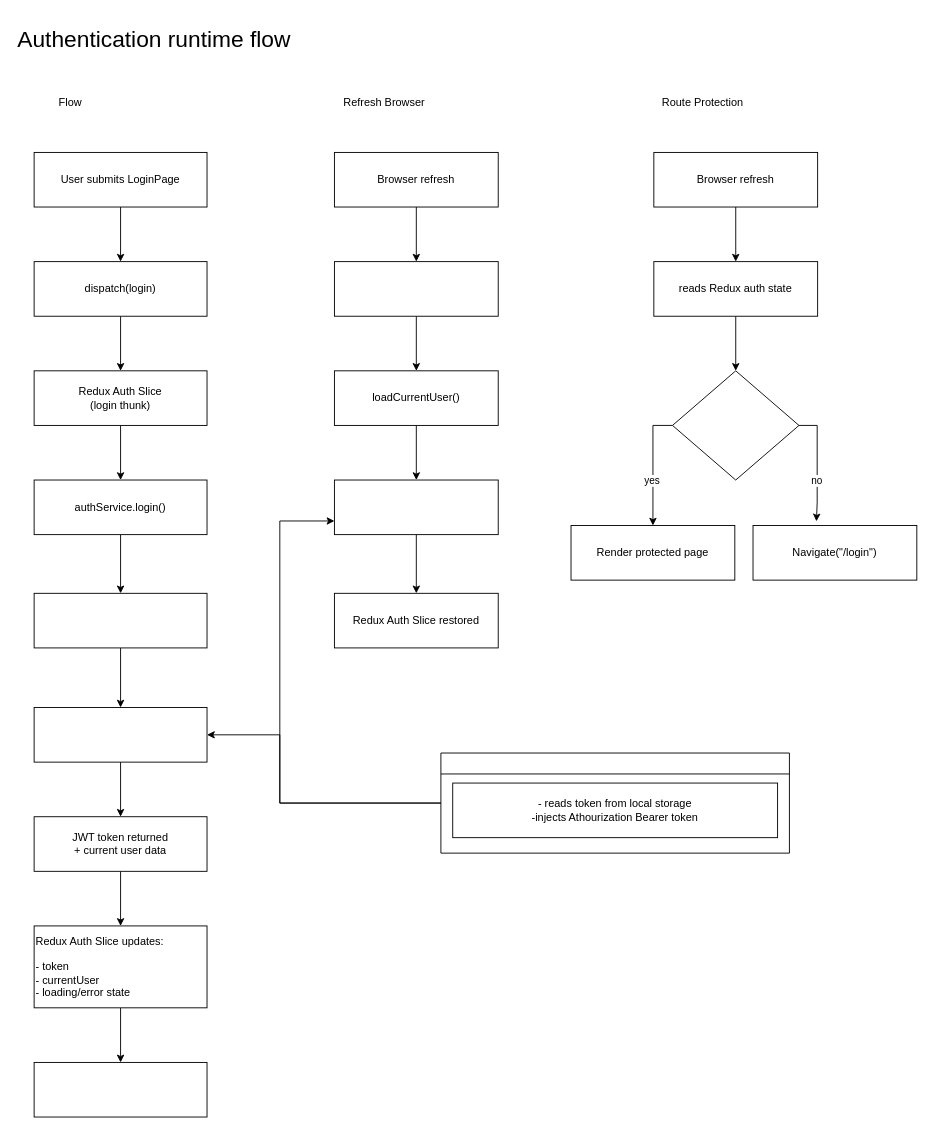
Image size: 933x1133. Some labels were removed from this diagram. The box of each missing label's shape, as (x1, y1, x2, y2) in pixels:
App.tsx bootstrap: (334, 261, 498, 316)
Axios Client: (33, 592, 207, 648)
AXIOS JWT Interceptor: (440, 752, 789, 853)
GET /api/auth/me: (334, 479, 498, 535)
JWT token persisted in localStorage: (33, 1062, 207, 1117)
POST /api/auth/login (Spring Boot): (33, 707, 207, 762)
token/user valid?: (672, 370, 799, 480)
